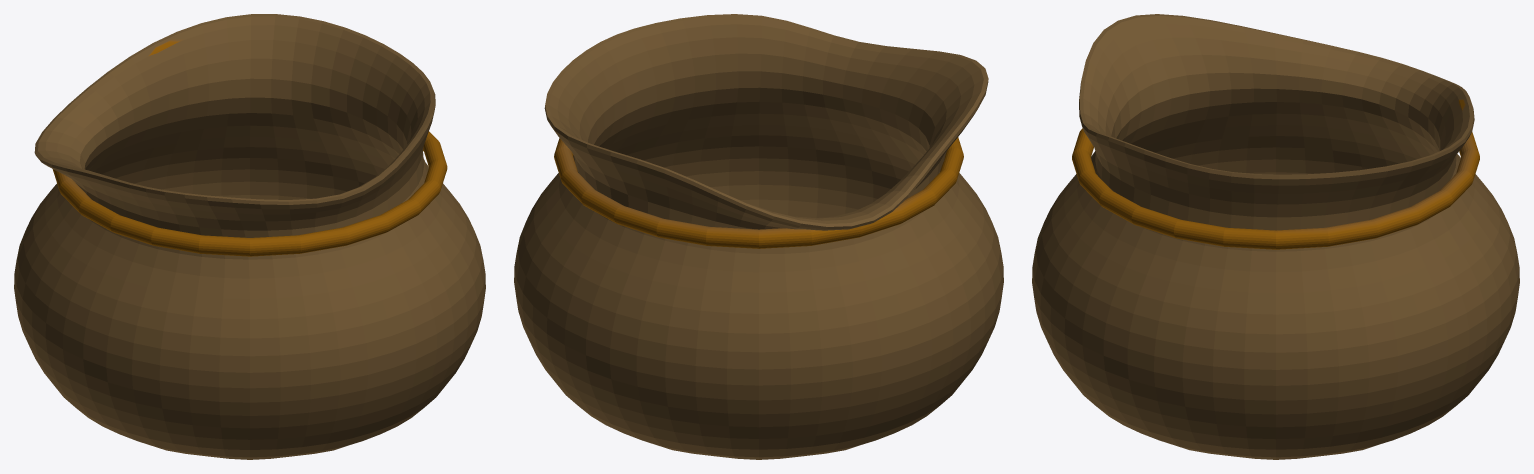
The model's file is Bag.fbx.
3 renders of one model, left to right at view 1: azimuth 30°, elevation 25°; view 2: azimuth 150°, elevation 25°; view 3: azimuth 270°, elevation 25°, orthographic. The views are drawn at different scales.
Parts seen in each view (by area): view 1: Bag; view 2: Bag; view 3: Bag.
Boxes of the visible parts, <box> form: Bag: <box>14,14,485,459</box>; Bag: <box>514,14,1003,459</box>; Bag: <box>1032,14,1519,459</box>.
Size of the model in its own units: 280 by 200 by 280.
